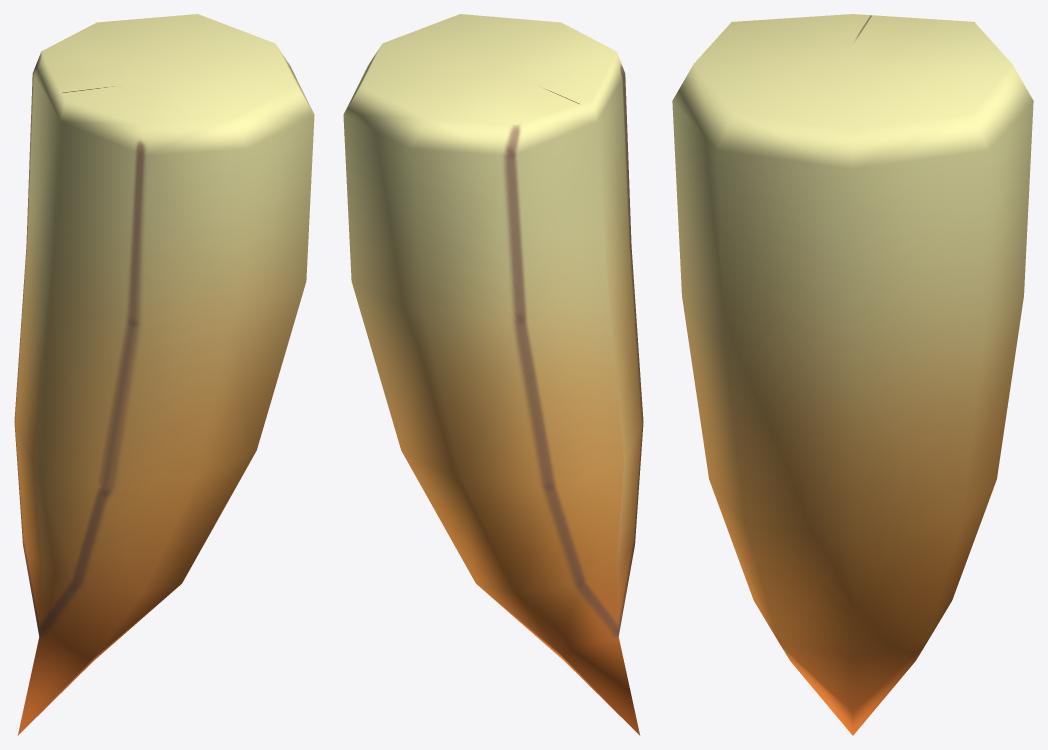
The model's file is kutibasi.fbx.
The picture shows the model from 3 angles, left to right: view 1: azimuth 30°, elevation 25°; view 2: azimuth 150°, elevation 25°; view 3: azimuth 270°, elevation 25°; orthographic projection. The views are drawn at different scales.
Parts seen in each view (by area): view 1: Beak; view 2: Beak; view 3: Beak.
Boxes of the visible parts, <box> form: Beak: <box>14,14,314,735</box>; Beak: <box>343,14,643,735</box>; Beak: <box>672,14,1033,735</box>.
Bounding box in the file's own units: 7.51 × 16.6 × 7.17.
1 material, 1 textured.
